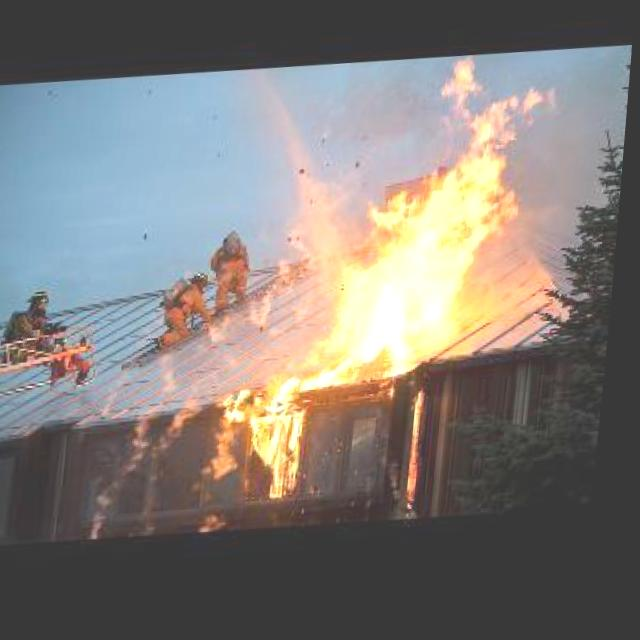Fire: (316, 52, 566, 391), (211, 374, 321, 511), (250, 182, 347, 337), (95, 415, 157, 539), (156, 374, 214, 467), (409, 392, 443, 520), (158, 346, 190, 408), (100, 370, 135, 421), (209, 312, 243, 355)
